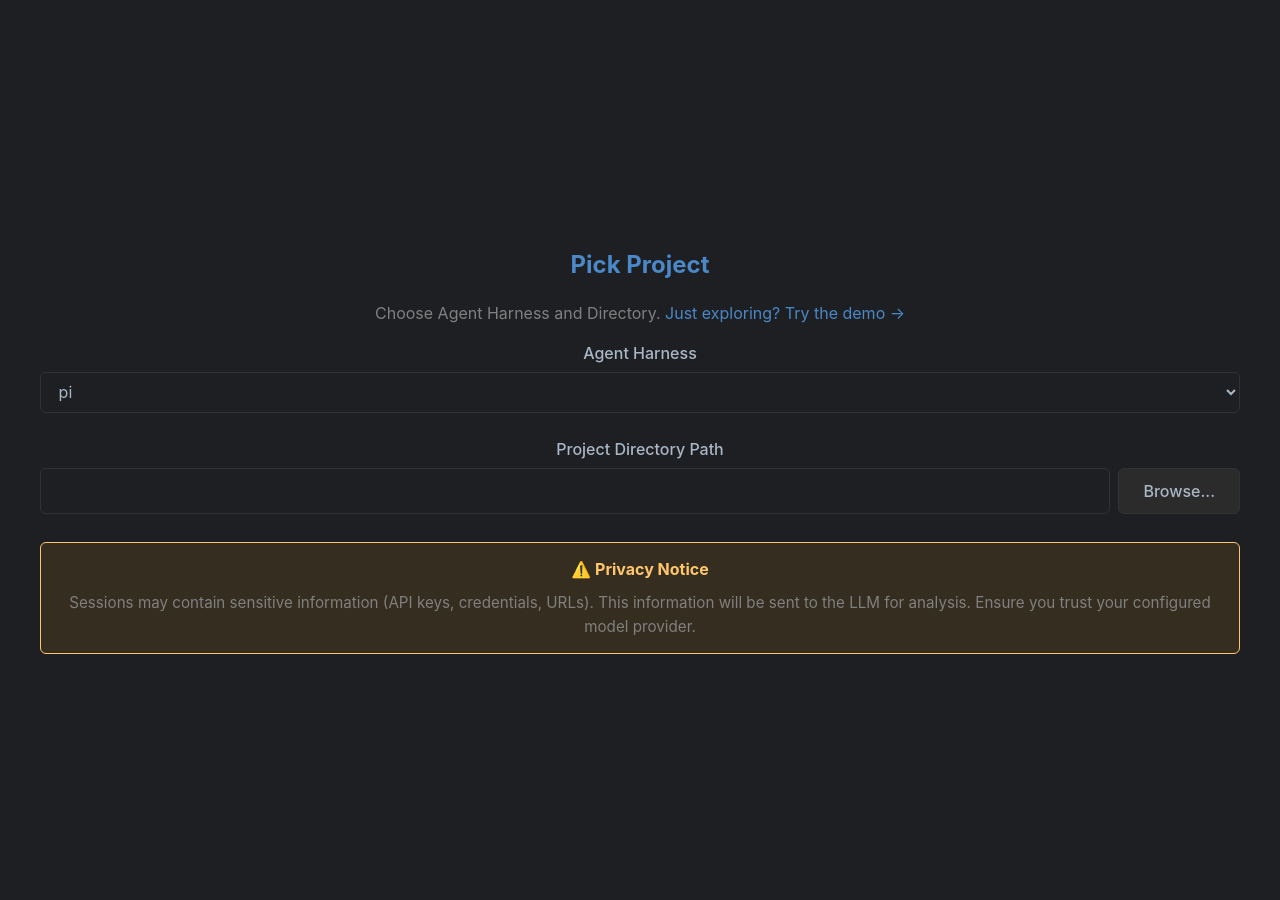
Scenario: ProjectPicker › opens modal when Browse button is clicked
Click the button "Browse..." at (1179, 492), box [1118,468,1240,514]
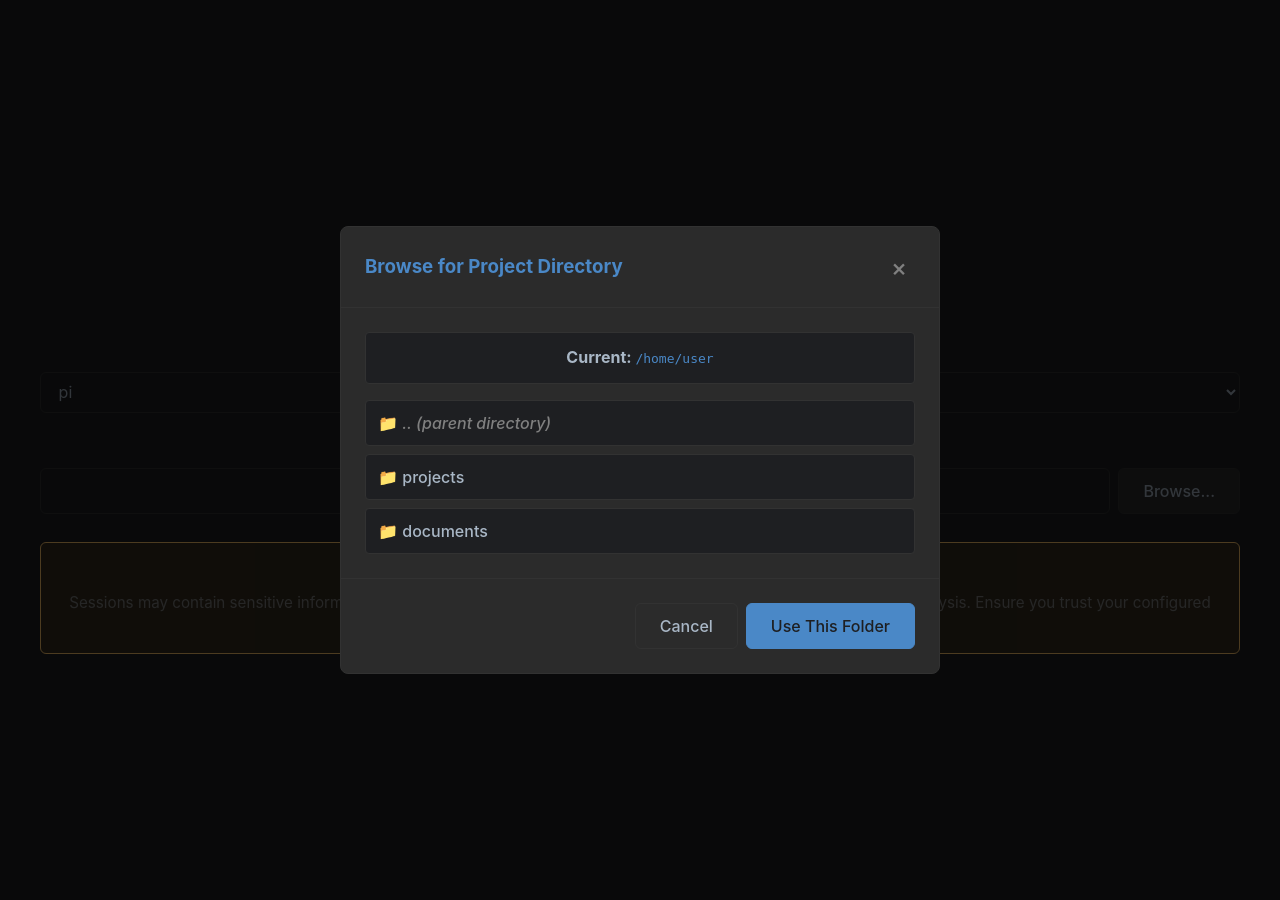
Expected: the heading "Browse for Project Directory" is shown, [365,252,623,282]
